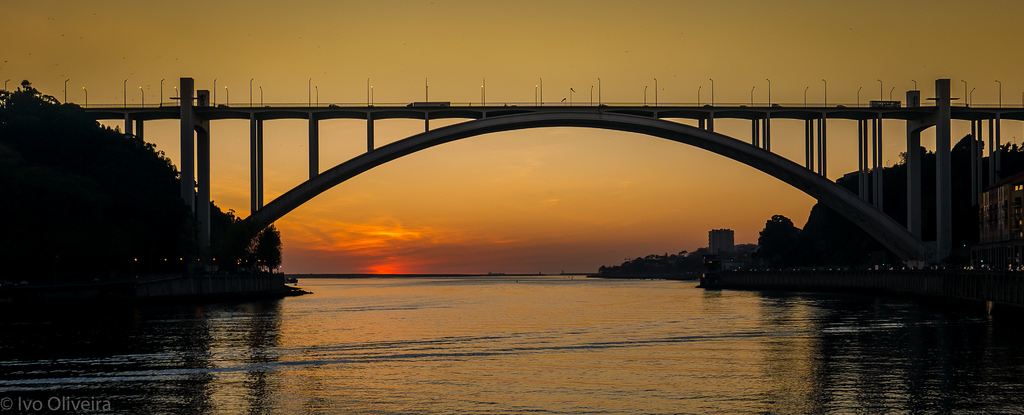arrabida: (39, 75, 1023, 270)
